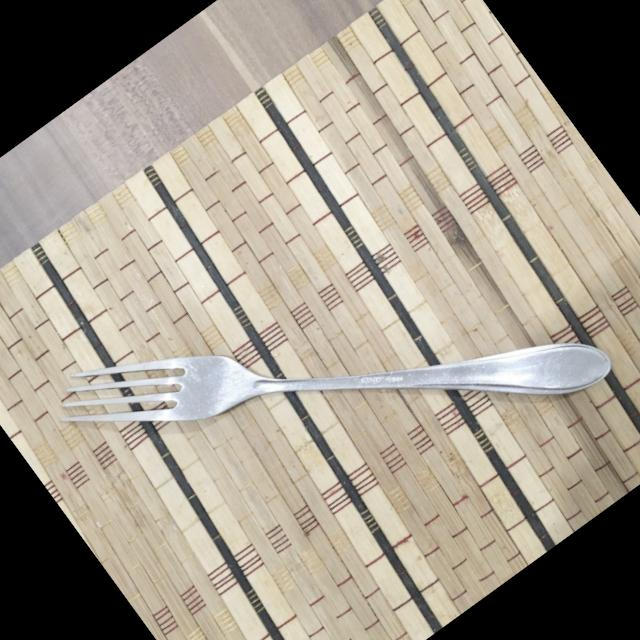fork: (42, 112, 615, 640)
